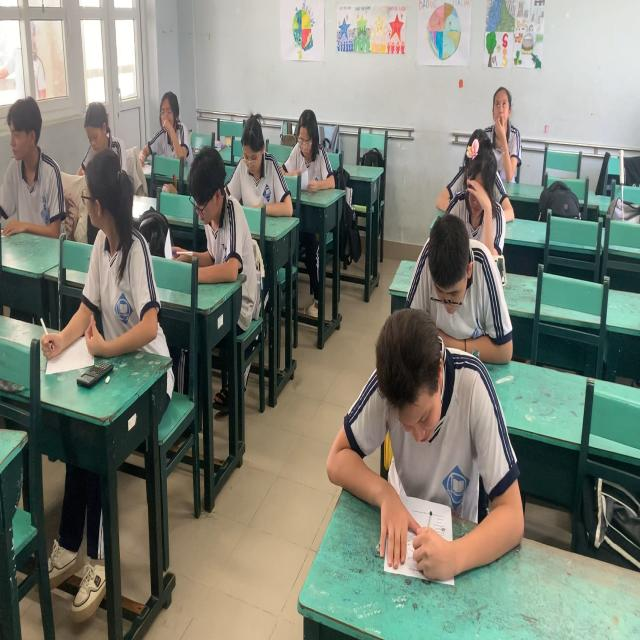cheating: (73, 157, 155, 362)
not_cheating: (361, 291, 480, 551), (176, 150, 252, 279), (5, 102, 66, 240), (416, 212, 486, 326), (458, 132, 503, 236), (237, 113, 277, 223), (155, 77, 194, 161), (287, 101, 324, 188), (75, 95, 124, 160), (490, 88, 524, 178)
